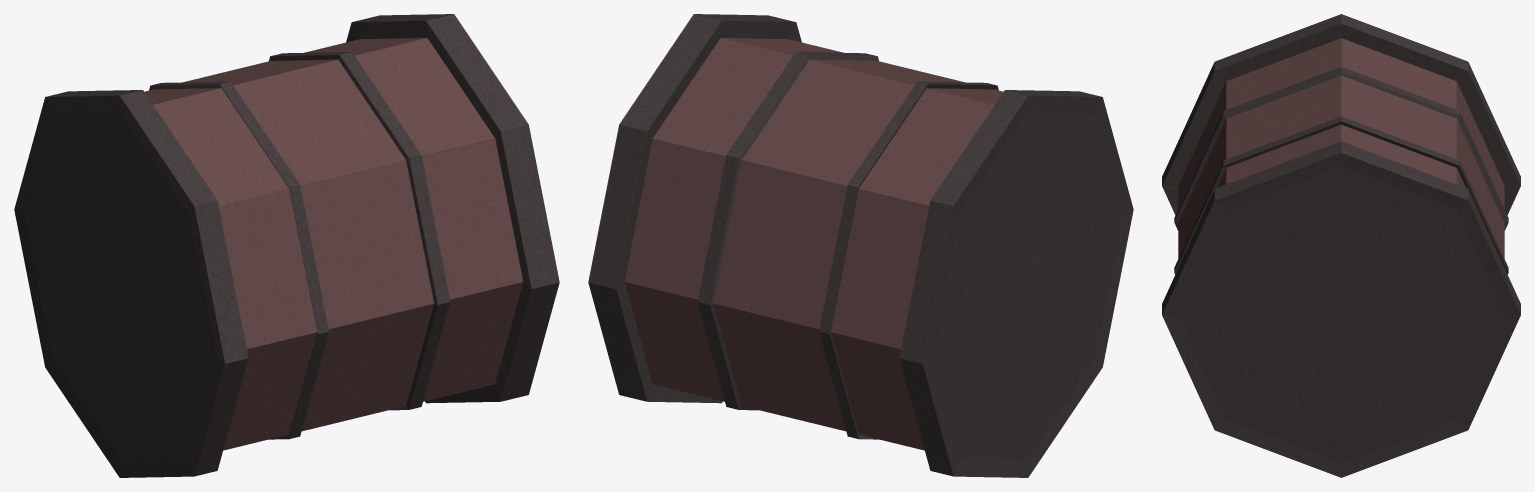
The model's file is barrel4.fbx.
The picture shows the model from 3 angles, left to right: view 1: azimuth 30°, elevation 25°; view 2: azimuth 150°, elevation 25°; view 3: azimuth 270°, elevation 25°; orthographic projection. The views are drawn at different scales.
Parts seen in each view (by area): view 1: Barrel.003; view 2: Barrel.003; view 3: Barrel.003.
Part boxes in pixels (x1,y1,x2,y2): Barrel.003: [14, 14, 559, 477]; Barrel.003: [588, 14, 1133, 477]; Barrel.003: [1162, 14, 1520, 477].
Size of the model in its own units: 654 by 714 by 714.
